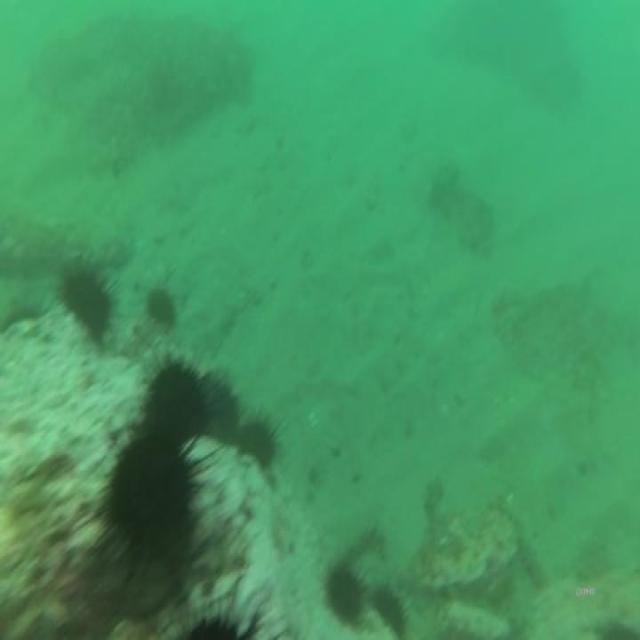echinus: (101, 422, 198, 567), (135, 340, 221, 449), (59, 256, 113, 348), (318, 553, 372, 629), (199, 365, 240, 446), (238, 409, 276, 474), (373, 582, 407, 635), (147, 280, 175, 328)
